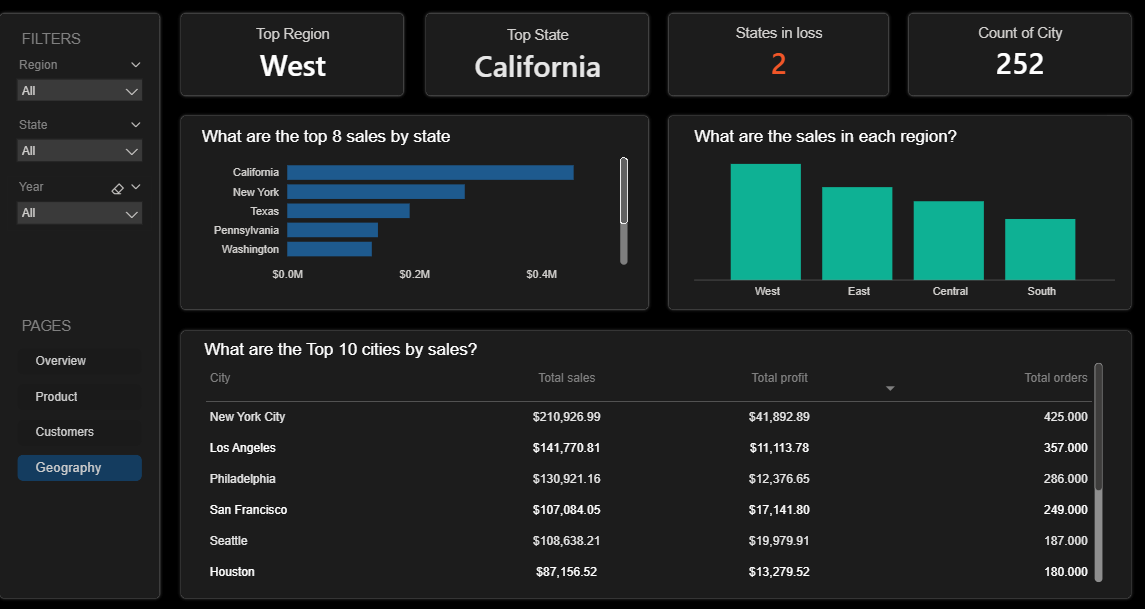

What the dashboard file says about the page in this screenshot:
{"tool":"powerbi","page":{"name":"Geography","canvas":[1280,720],"ordinal":3},"visuals":[{"type":"shape","box":[11,52.1,183.9,650.4],"z":0},{"type":"shape","box":[209.9,52.1,252.5,98.8],"z":1000},{"type":"shape","box":[478.9,52.1,252.5,98.8],"z":2000},{"type":"shape","box":[745.1,52.1,249.7,98.8],"z":3000},{"type":"shape","box":[1008.6,52.1,252.5,98.8],"z":4000},{"type":"slicer","fields":{"Values":["Customer_dim.Region"]},"box":[23.3,100.2,159.2,52.1],"z":5000},{"type":"slicer","fields":{"Values":["Customer_dim.State"]},"box":[23.3,166,159.2,59],"z":6000},{"type":"slicer","fields":{"Values":["date_dim.Order Date.Variation.Date Hierarchy.Year"]},"box":[23.3,234.6,159.2,60.4],"z":7000},{"type":"cardVisual","fields":{"Data":["Measures_.Top Region"]},"box":[253.9,53.5,166,97.4],"z":8000},{"type":"cardVisual","fields":{"Data":["Measures_.Top State"]},"box":[522.8,54.9,166,97.4],"z":9000},{"type":"cardVisual","fields":{"Data":["Measures_.States in loss"]},"box":[787.7,52.1,166,97.4],"z":10000},{"type":"cardVisual","fields":{"Data":["Count(Customer_dim.City)"]},"box":[1052.5,52.1,166,97.4],"z":11000},{"type":"shape","box":[209.9,164.7,521.4,220.9],"z":12000},{"type":"shape","box":[745.1,164.7,516,220.9],"z":13000},{"type":"clusteredColumnChart","title":"What are the sales in each region?","fields":{"Category":["Customer_dim.Region"],"Y":["Measures_.Total sales"]},"box":[772.6,181.1,472,196.2],"z":14000},{"type":"shape","box":[209.9,400.7,1051.1,301.9],"z":15000},{"type":"textbox","box":[34.3,71.4,82.3,28.8],"z":17000},{"type":"textbox","box":[34.3,385.6,82.3,28.8],"z":18000},{"type":"pageNavigator","box":[34.3,424,137.2,146.8],"z":19000},{"type":"clusteredBarChart","title":"What are the top 8 sales by state","fields":{"Category":["Customer_dim.State"],"Y":["Measures_.Total sales"]},"box":[231.9,181.1,477.5,178.4],"z":24001},{"type":"tableEx","title":"What are the Top 10 cities by sales?","fields":{"Values":["Customer_dim.City","Measures_.Total sales","Measures_.Total profit","Measures_.Total orders"]},"box":[234.6,414.4,996.2,271.7],"z":24002}]}

Visuals, with their boxes on the page's 1280x720 design canvas (x1, y1, x2, y2). These are canvas units, not pixel positions in the 1145x609 screenshot, which may show the page scaled, cropped or inside an application window:
shape: locate(11, 52, 195, 702)
shape: locate(210, 52, 462, 151)
shape: locate(479, 52, 731, 151)
shape: locate(745, 52, 995, 151)
shape: locate(1009, 52, 1261, 151)
slicer - Customer_dim.Region: locate(23, 100, 182, 152)
slicer - Customer_dim.State: locate(23, 166, 182, 225)
slicer - date_dim.Order Date.Variation.Date Hierarchy.Year: locate(23, 235, 182, 295)
cardVisual - Measures_.Top Region: locate(254, 54, 420, 151)
cardVisual - Measures_.Top State: locate(523, 55, 689, 152)
cardVisual - Measures_.States in loss: locate(788, 52, 954, 150)
cardVisual - Count(Customer_dim.City): locate(1052, 52, 1218, 150)
shape: locate(210, 165, 731, 386)
shape: locate(745, 165, 1261, 386)
"What are the sales in each region?" clusteredColumnChart: locate(773, 181, 1245, 377)
shape: locate(210, 401, 1261, 703)
textbox: locate(34, 71, 117, 100)
textbox: locate(34, 386, 117, 414)
pageNavigator: locate(34, 424, 172, 571)
"What are the top 8 sales by state" clusteredBarChart: locate(232, 181, 709, 360)
"What are the Top 10 cities by sales?" tableEx: locate(235, 414, 1231, 686)
